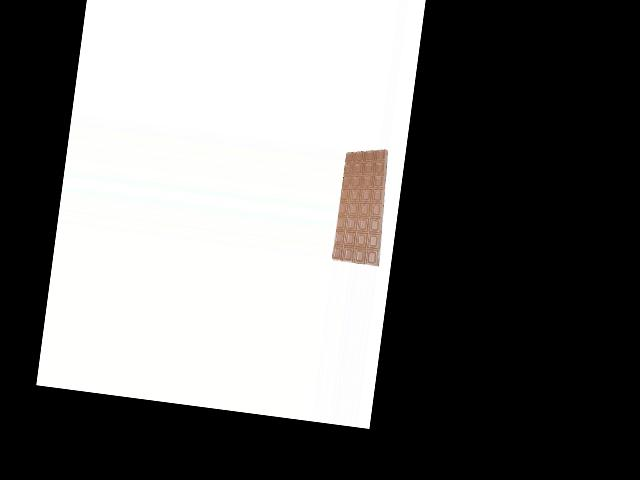chocolate: (331, 143, 392, 267)
